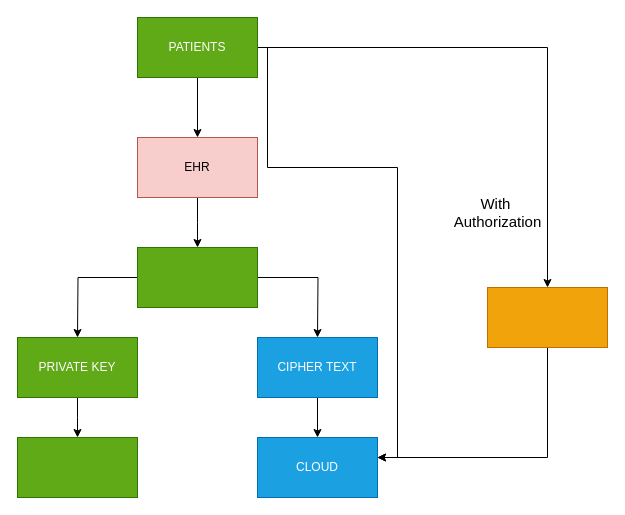
This 625x515 diagram has some shape labels left out. Here are the shapes that lost their labels. From the top down, the centre of each, then its label:
point (197, 277): ENCRYPTED LOCALLY
point (547, 317): DOCTOR
point (77, 467): STORED LOCALLY
